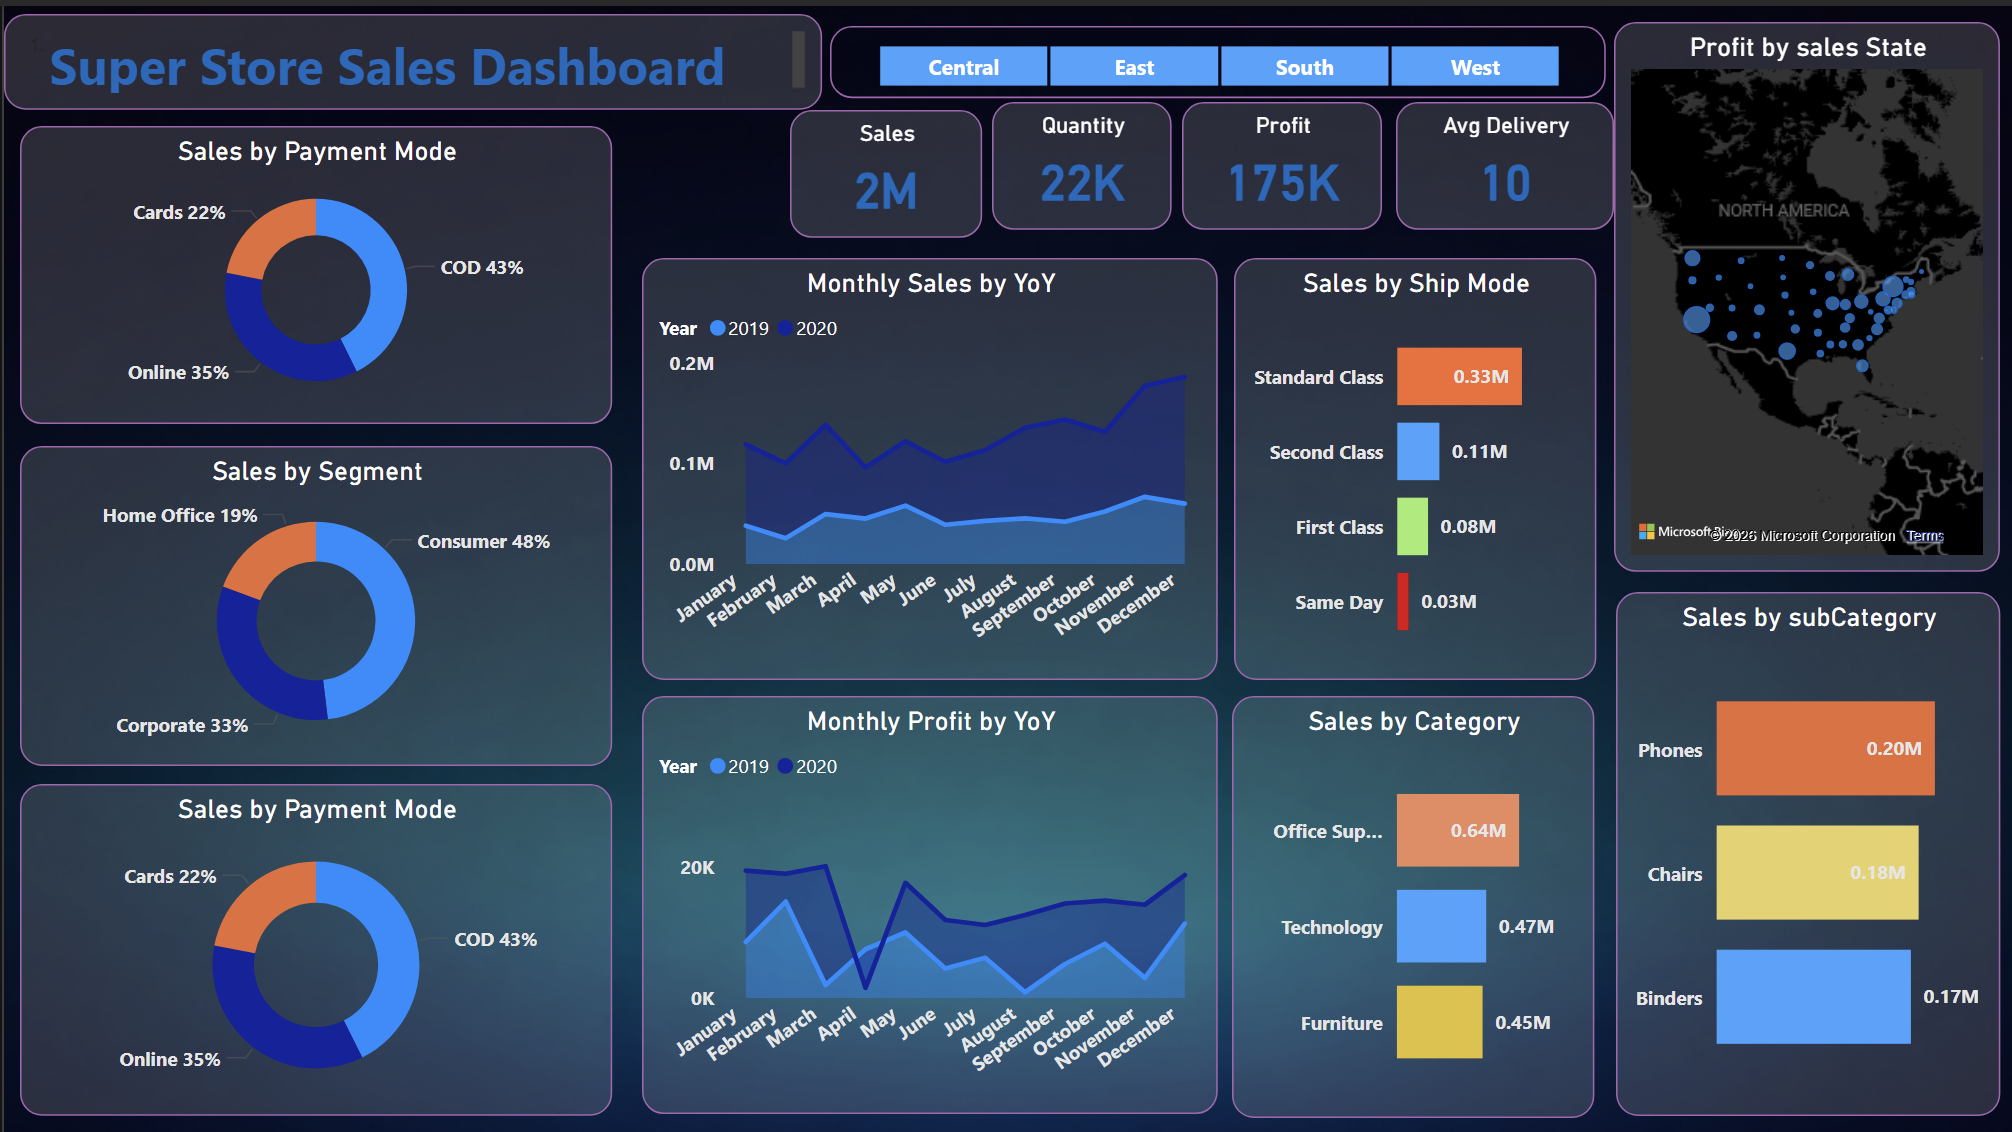

The page's visual inventory and layout, read from the dashboard file:
{"tool":"powerbi","page":{"name":"Page 1","canvas":[1280,720],"ordinal":0},"visuals":[{"type":"clusteredBarChart","title":" Sales by Category","fields":{"Category":["SuperStore_Sales_Dataset.Category"],"Y":["Sum(SuperStore_Sales_Dataset.Sales)"]},"box":[782.8,439.8,230.8,269],"z":0},{"type":"clusteredBarChart","title":" Sales by subCategory","fields":{"Category":["SuperStore_Sales_Dataset.Sub-Category"],"Y":["Sum(SuperStore_Sales_Dataset.Sales)"]},"box":[1027.6,373.5,244.8,334],"z":1000},{"type":"clusteredBarChart","title":" Sales by Ship Mode","fields":{"Category":["SuperStore_Sales_Dataset.Ship Mode"],"Y":["Sum(SuperStore_Sales_Dataset.Sales)"]},"box":[784.1,160.6,230.8,269],"z":2000},{"type":"stackedAreaChart","title":"Monthly Sales by YoY","fields":{"Category":["SuperStore_Sales_Dataset.Order Date.Variation.Date Hierarchy.Month","SuperStore_Sales_Dataset.Order Date.Variation.Date Hierarchy.Day"],"Y":["Sum(SuperStore_Sales_Dataset.Sales)"],"Series":["SuperStore_Sales_Dataset.Order Date.Variation.Date Hierarchy.Year"]},"box":[406.7,160.6,367.2,269],"z":3000},{"type":"stackedAreaChart","title":"Monthly Profit by YoY","fields":{"Category":["SuperStore_Sales_Dataset.Order Date.Variation.Date Hierarchy.Month","SuperStore_Sales_Dataset.Order Date.Variation.Date Hierarchy.Day"],"Series":["SuperStore_Sales_Dataset.Order Date.Variation.Date Hierarchy.Year"],"Y":["Sum(SuperStore_Sales_Dataset.Profit)"]},"box":[406.7,439.8,367.2,266.5],"z":4000},{"type":"map","title":" Profit by sales State","fields":{"Category":["SuperStore_Sales_Dataset.State"],"Size":["Sum(SuperStore_Sales_Dataset.Sales)"]},"box":[1026.3,10.2,246.1,350.6],"z":5000},{"type":"donutChart","title":" Sales by Segment","fields":{"Category":["SuperStore_Sales_Dataset.Segment"],"Y":["Sum(SuperStore_Sales_Dataset.Sales)"]},"box":[10.2,280.5,377.4,204],"z":6000},{"type":"donutChart","title":"Sales by Payment Mode","fields":{"Category":["SuperStore_Sales_Dataset.Payment Mode"],"Y":["Sum(SuperStore_Sales_Dataset.Sales)"]},"box":[10.2,495.9,377.4,211.6],"z":7000},{"type":"slicer","fields":{"Values":["SuperStore_Sales_Dataset.Region"]},"box":[526.5,12.7,494.7,45.9],"z":8000},{"type":"textbox","box":[0,5.1,521.4,61.2],"z":9000},{"type":"card","title":"Sales","fields":{"Values":["Sum(SuperStore_Sales_Dataset.Sales)"]},"box":[501,66.3,122.4,81.6],"z":10000},{"type":"card","title":"Quantity","fields":{"Values":["Sum(SuperStore_Sales_Dataset.Quantity)"]},"box":[629.8,61.2,114.7,81.6],"z":11000},{"type":"card","title":"Profit","fields":{"Values":["Sum(SuperStore_Sales_Dataset.Profit)"]},"box":[750.9,61.2,127.5,81.6],"z":12000},{"type":"card","title":"Avg Delivery","fields":{"Values":["Avg(SuperStore_Sales_Dataset.AvgDelivery)"]},"box":[887.3,61.2,139,81.6],"z":13000},{"type":"donutChart","title":"Sales by Payment Mode","fields":{"Category":["SuperStore_Sales_Dataset.Payment Mode"],"Y":["Sum(SuperStore_Sales_Dataset.Sales)"]},"box":[10.2,76.5,377.4,190],"z":13001}]}

Visuals, with their boxes in screenshot pixels (x1, y1, x2, y2), scaled from the page's 1280x720 canvas onto the 2012x1132 screenshot:
" Sales by Category" clusteredBarChart: crop(1230, 691, 1593, 1114)
" Sales by subCategory" clusteredBarChart: crop(1615, 587, 2000, 1112)
" Sales by Ship Mode" clusteredBarChart: crop(1233, 252, 1595, 675)
"Monthly Sales by YoY" stackedAreaChart: crop(639, 252, 1216, 675)
"Monthly Profit by YoY" stackedAreaChart: crop(639, 691, 1216, 1110)
" Profit by sales State" map: crop(1613, 16, 2000, 567)
" Sales by Segment" donutChart: crop(16, 441, 609, 762)
"Sales by Payment Mode" donutChart: crop(16, 780, 609, 1112)
slicer - SuperStore_Sales_Dataset.Region: crop(828, 20, 1605, 92)
textbox: crop(0, 8, 820, 104)
"Sales" card: crop(788, 104, 980, 233)
"Quantity" card: crop(990, 96, 1170, 225)
"Profit" card: crop(1180, 96, 1381, 225)
"Avg Delivery" card: crop(1395, 96, 1613, 225)
"Sales by Payment Mode" donutChart: crop(16, 120, 609, 419)
